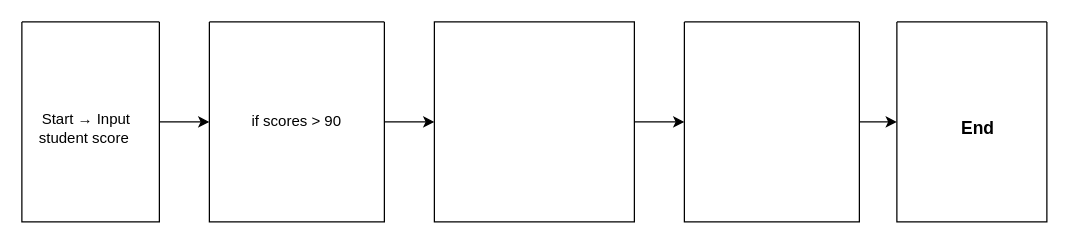
Image size: 1069x244. Some labels were removed from this diagram. Each missing label, with the centre of its shape:
"No → Print “Review”" goes at pixel 771 121.
"Yes → Print “Approved”" goes at pixel 533 121.
